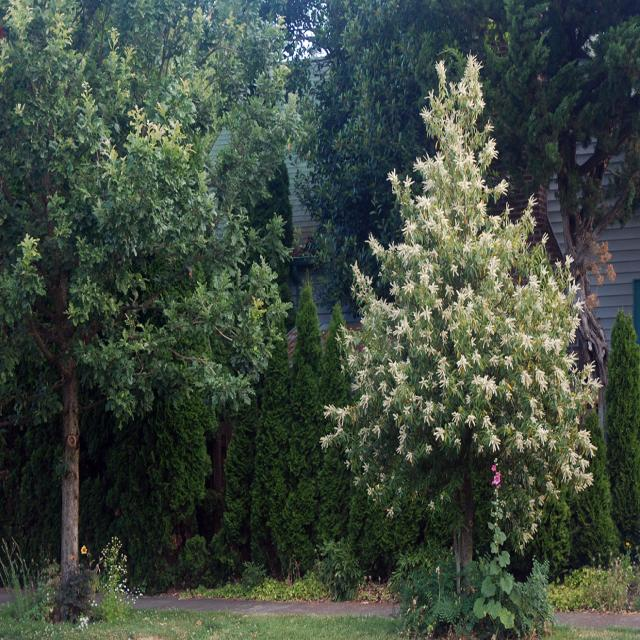Chrysolepis chrysophylla: (331, 52, 597, 640)
